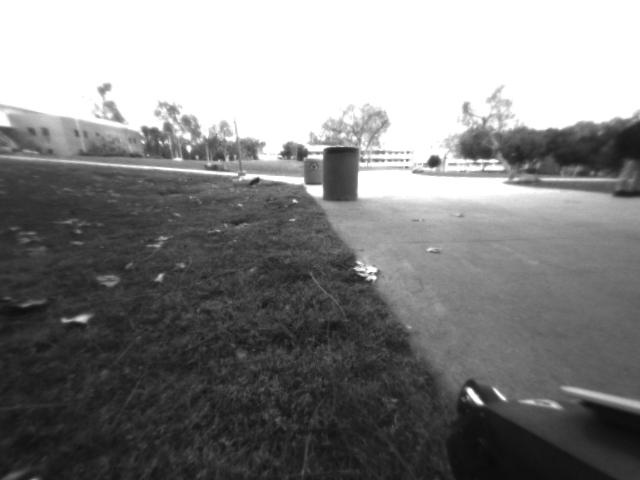trashcan: (321, 145, 362, 200), (301, 155, 328, 187)
